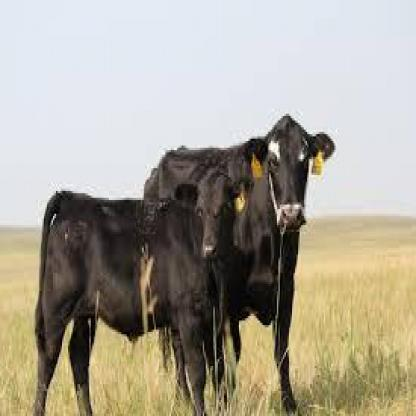cow: (143, 113, 336, 416), (33, 170, 254, 416)
